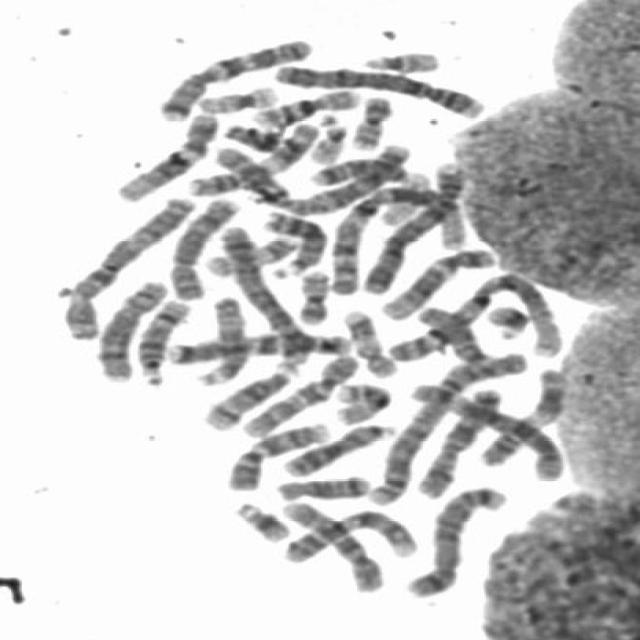A1: (382, 266, 571, 363), (321, 181, 475, 296)
A2: (362, 342, 530, 509), (212, 135, 408, 215)
A3: (54, 191, 200, 342)
B4: (352, 159, 470, 296), (267, 59, 486, 120)
B5: (212, 220, 312, 366), (400, 480, 510, 600)
C10: (231, 348, 363, 439), (272, 495, 387, 595)
C11: (182, 118, 324, 198), (472, 362, 571, 469)
C12: (110, 107, 223, 203), (374, 242, 500, 322)
C6: (401, 374, 572, 482)
C7: (151, 33, 318, 122), (159, 326, 357, 366)
C8: (160, 191, 244, 302), (90, 272, 173, 384)
C9: (275, 503, 420, 563), (218, 417, 332, 492)
D13: (277, 418, 398, 478), (256, 206, 329, 280)
D14: (196, 360, 298, 432), (129, 294, 195, 386)
D15: (190, 290, 252, 388), (410, 300, 496, 366)
E16: (247, 84, 363, 128), (327, 377, 395, 427)
E17: (198, 230, 300, 278), (336, 305, 401, 378)
E18: (305, 151, 414, 187), (270, 469, 374, 502)
F19: (374, 171, 432, 228), (190, 80, 282, 115)
F20: (344, 90, 396, 150), (291, 264, 333, 325)
G21: (228, 496, 294, 544), (480, 300, 533, 340)
G22: (304, 110, 351, 164), (356, 46, 444, 74)
X: (409, 382, 508, 501)
Y: (217, 118, 288, 152)
